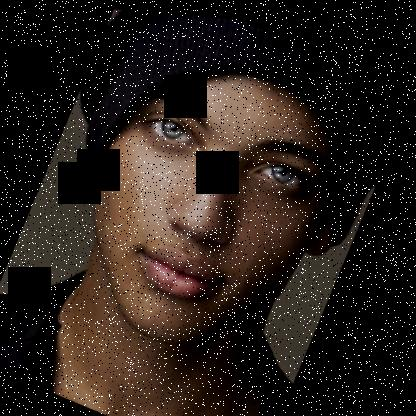Male: (47, 27, 388, 390)
